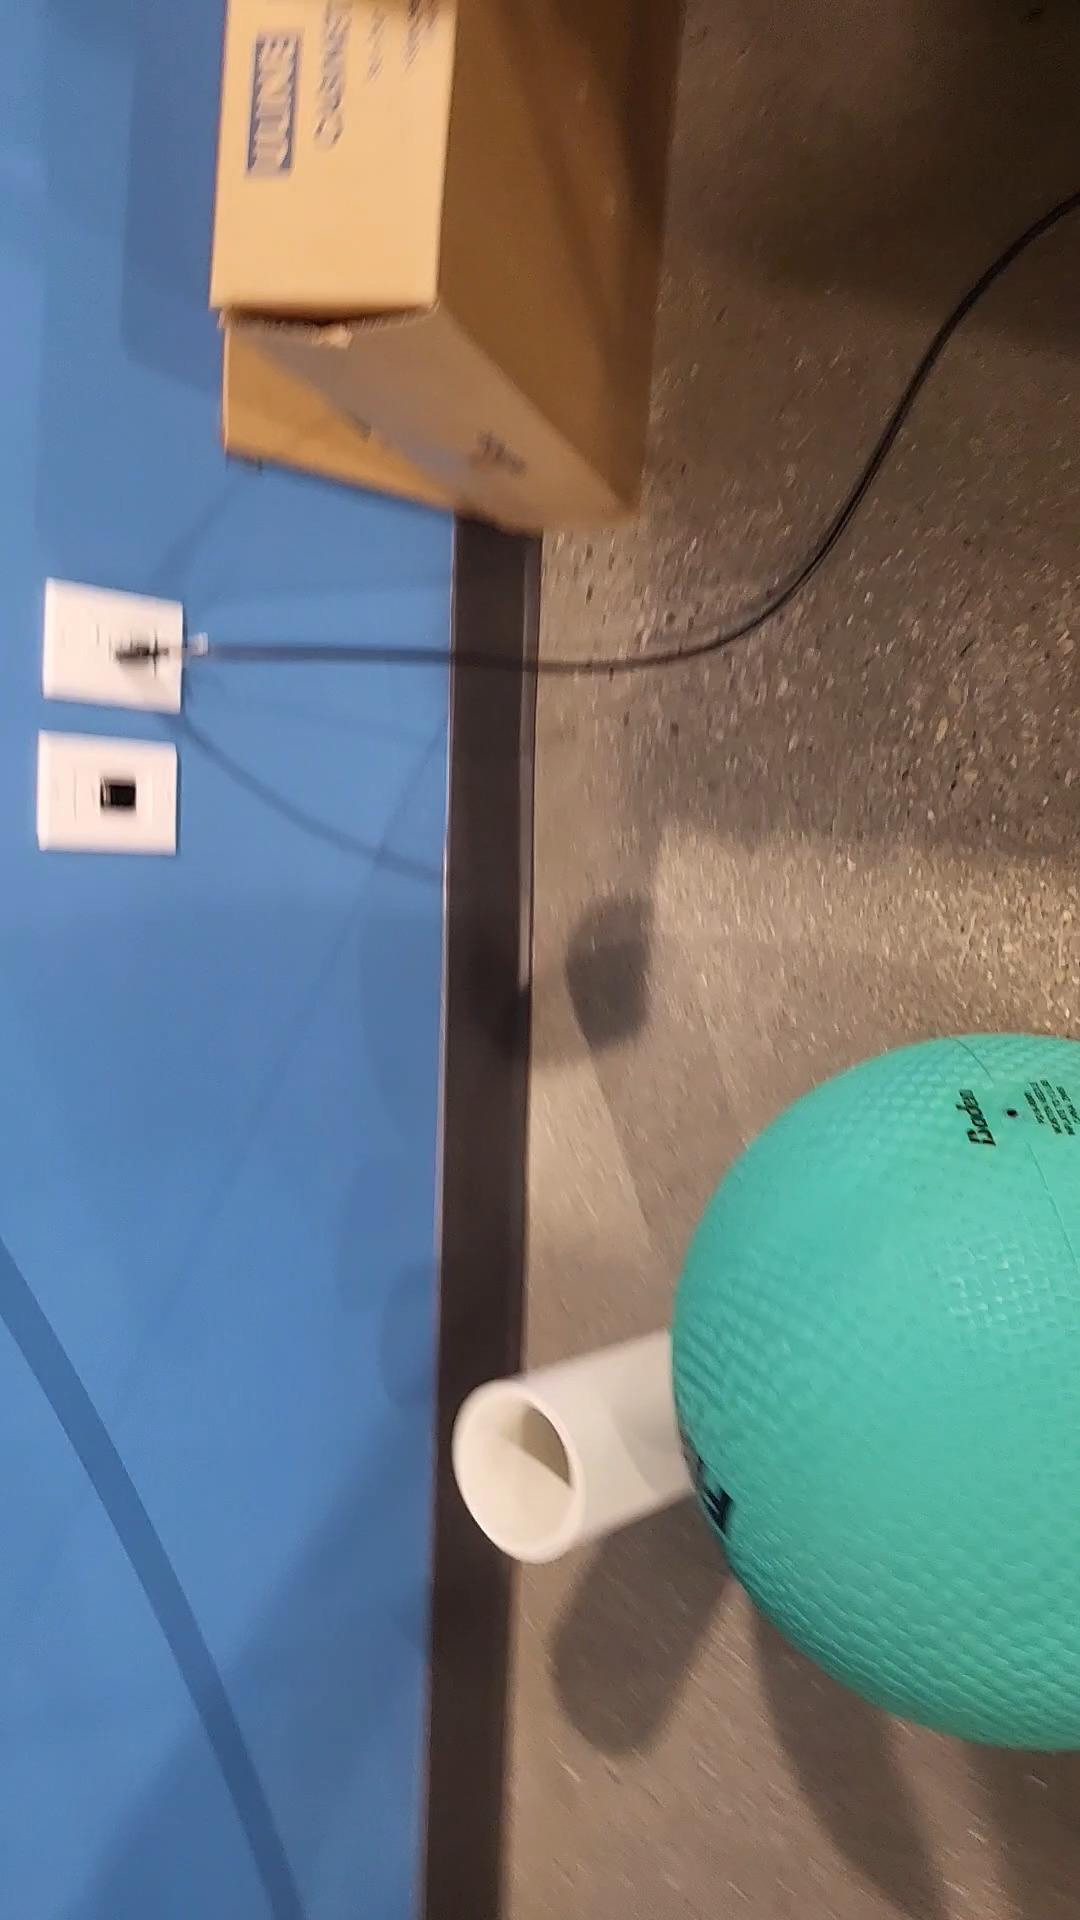algae: (683, 1011, 1080, 1756)
coral: (450, 1321, 700, 1556)
